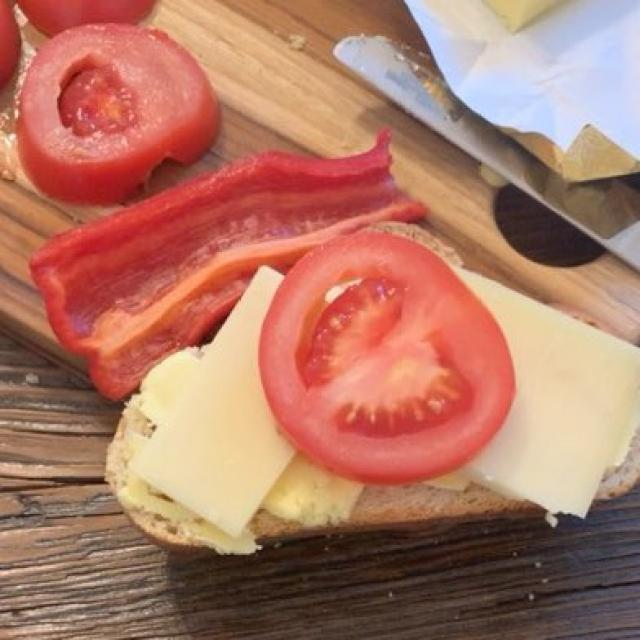bell-pepper-red-raw: (34, 149, 426, 399)
braided-white-loaf: (121, 348, 639, 553)
butter: (134, 350, 364, 531)
hard-cheese: (140, 260, 639, 534)
tomato-raw: (117, 241, 503, 486), (25, 26, 209, 243)
